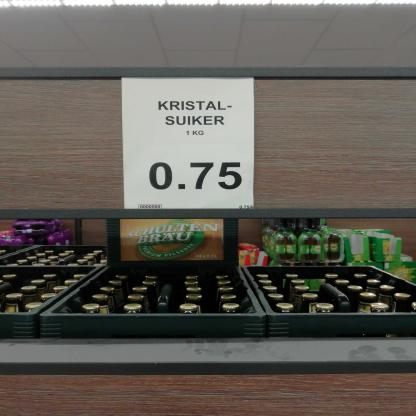prtg: (122, 77, 255, 211)
